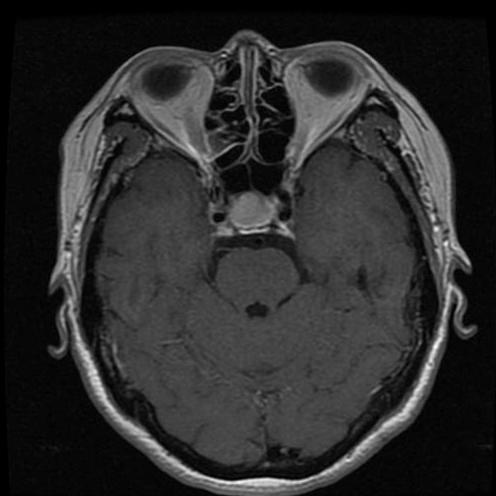Tumour-Pituitary: (195, 187, 306, 245)
